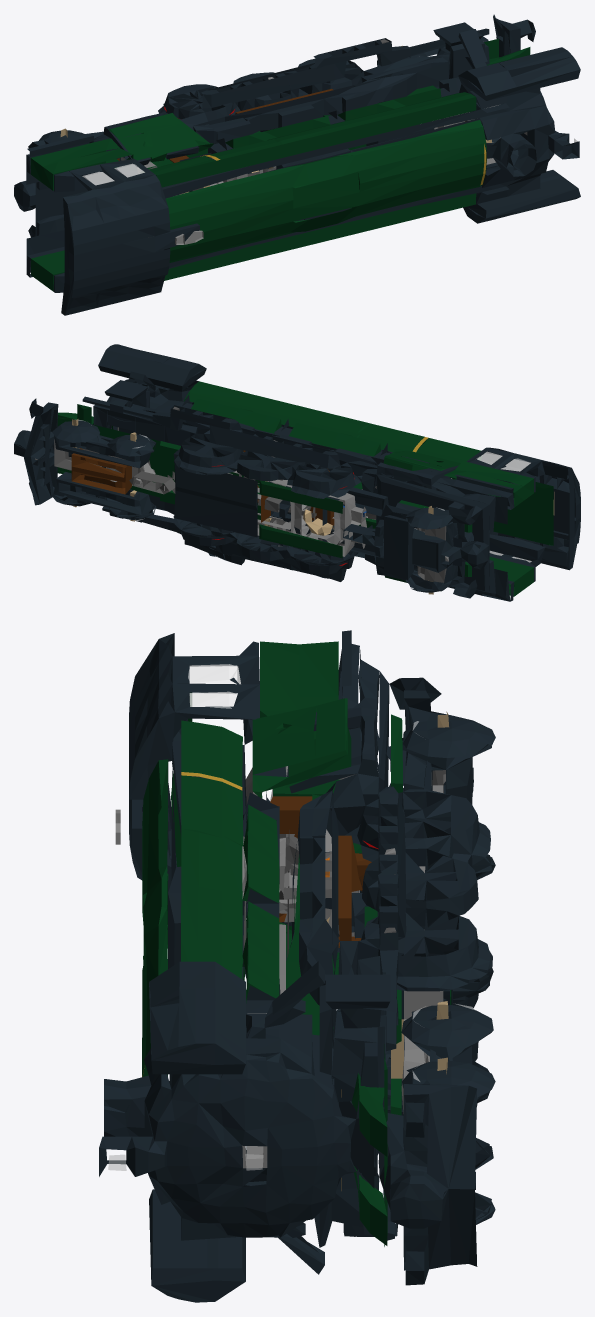
Rendered from locomotive.glb.
3 views of the same model, one above another, from view 1: azimuth 30°, elevation 25°; view 2: azimuth 150°, elevation 25°; view 3: azimuth 270°, elevation 25° (orthographic). The views are drawn at different scales.
Bounding box in the file's own units: 276 × 80.03 × 96.85.
